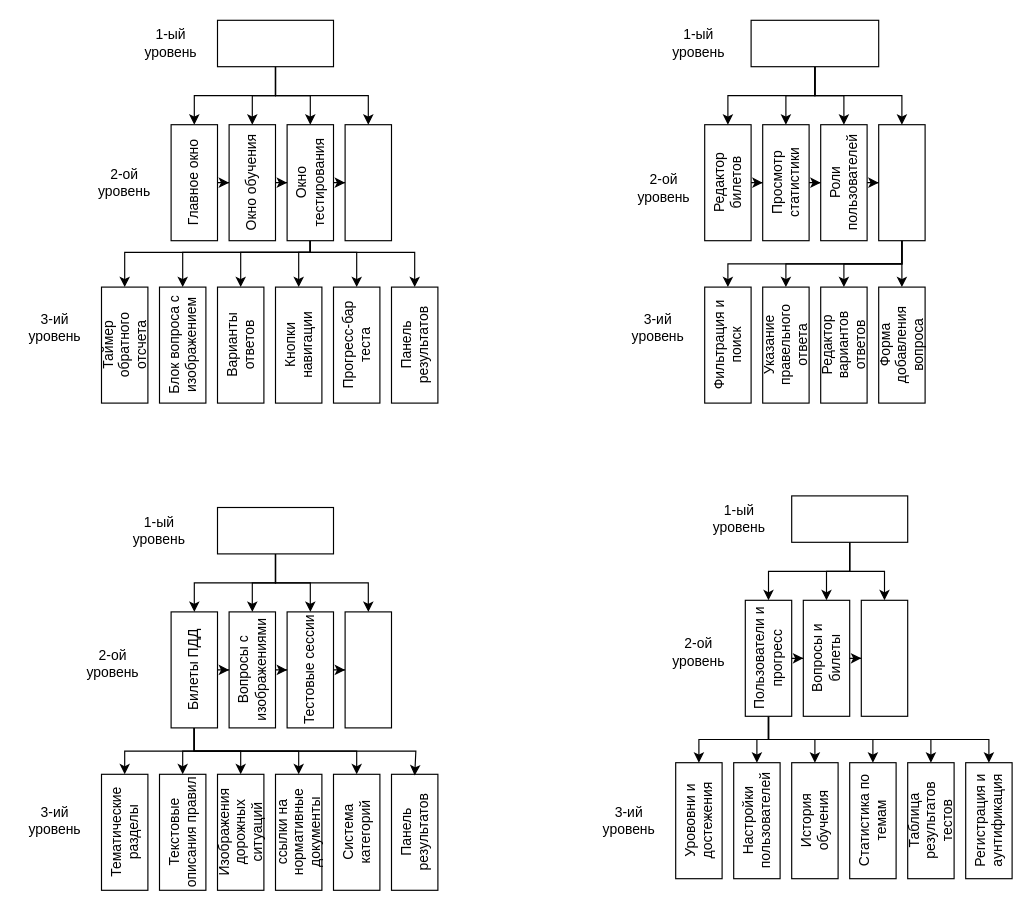
Some shapes in this 1032 by 911 pixel diagram are drawn without their labels. The centre of each missing label's shape, as x and y in pixels:
Desctop-приложение: the point at 275,43
Административный модуль: the point at 814,43
База данных: the point at 849,518
Окно статистики: the point at 368,182
Прогресс обучения: the point at 368,669
Результат тестов: the point at 884,657
Система обучения: the point at 275,530
Управление вопросами: the point at 901,182
